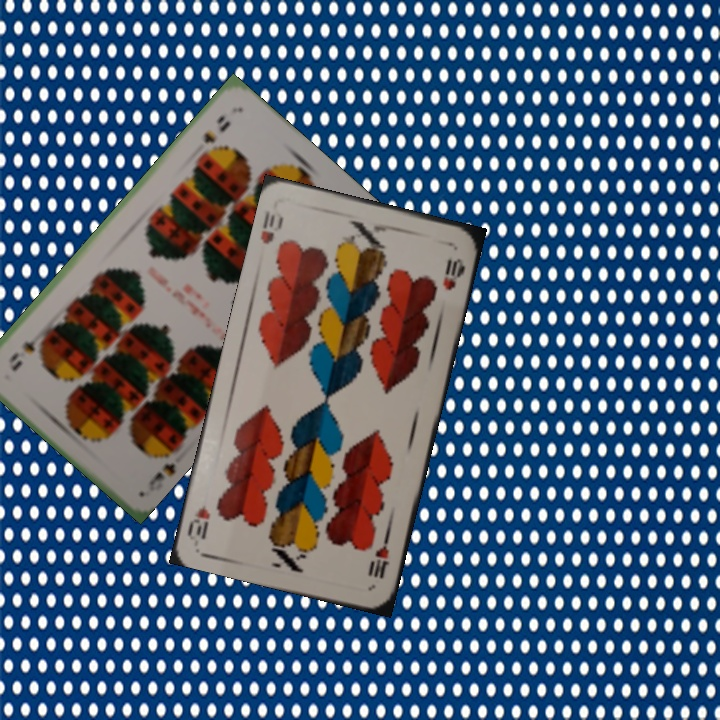H10: (365, 528, 392, 582), (256, 206, 286, 247)
S9: (144, 442, 183, 494), (199, 111, 233, 146)
